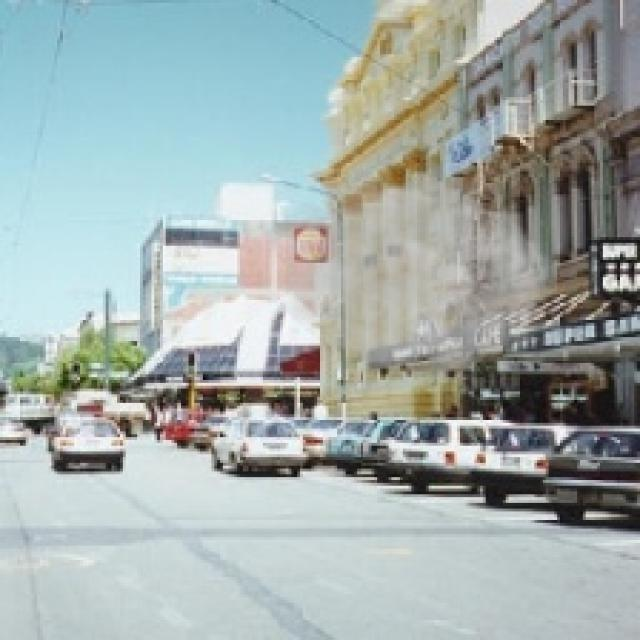Smoke: (286, 166, 558, 380)
